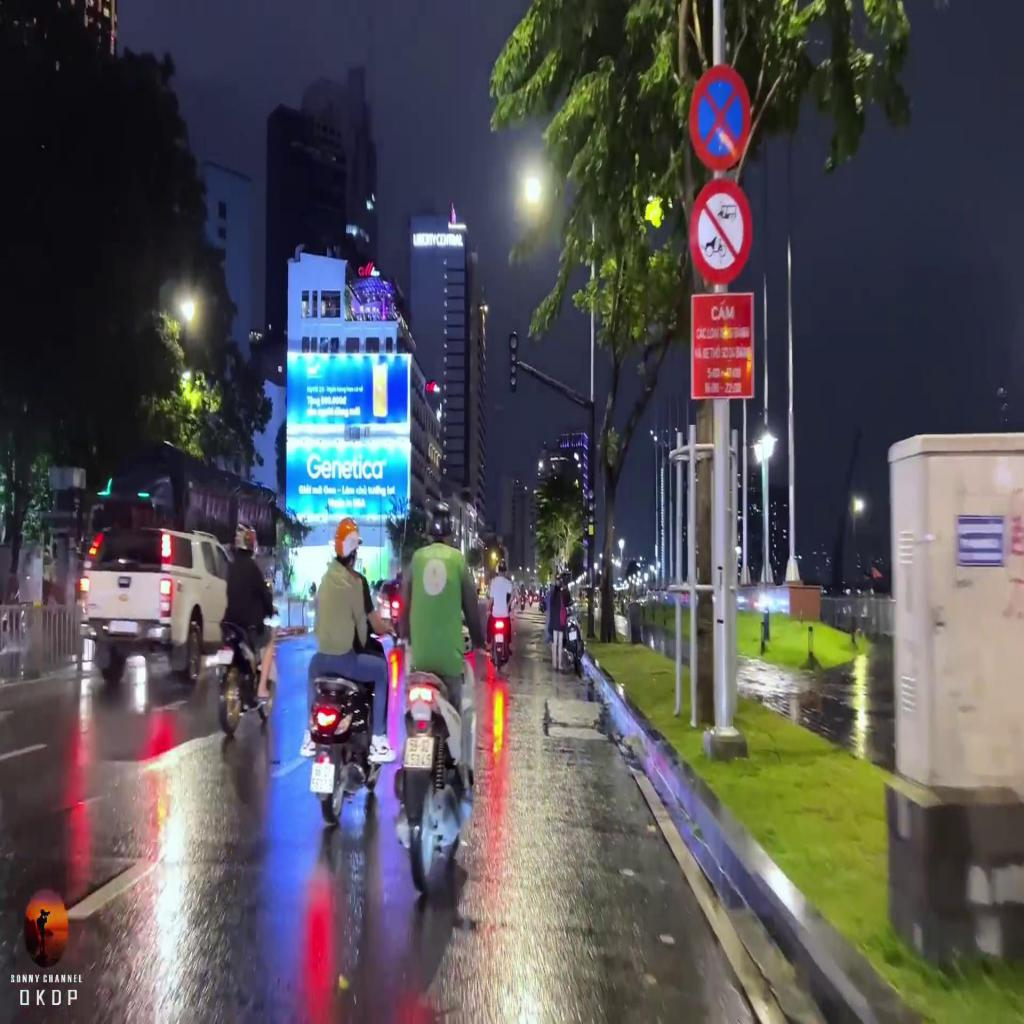cam_cac_loai_xe_3_banh: (689, 179, 750, 284)
cam_dung_xe_va_do_xe: (689, 62, 749, 168)
